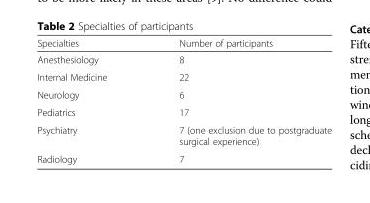table: (36, 36, 331, 164)
table column: (142, 36, 331, 164), (36, 36, 142, 164)
table column header: (36, 36, 331, 50)
table row: (36, 120, 331, 149), (36, 67, 331, 85), (36, 85, 331, 103), (36, 50, 331, 67), (36, 103, 331, 120), (36, 149, 331, 164), (36, 36, 331, 50)
